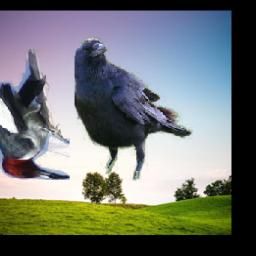Crow: (74, 37, 192, 181)
Woodpecker: (0, 50, 70, 181)
